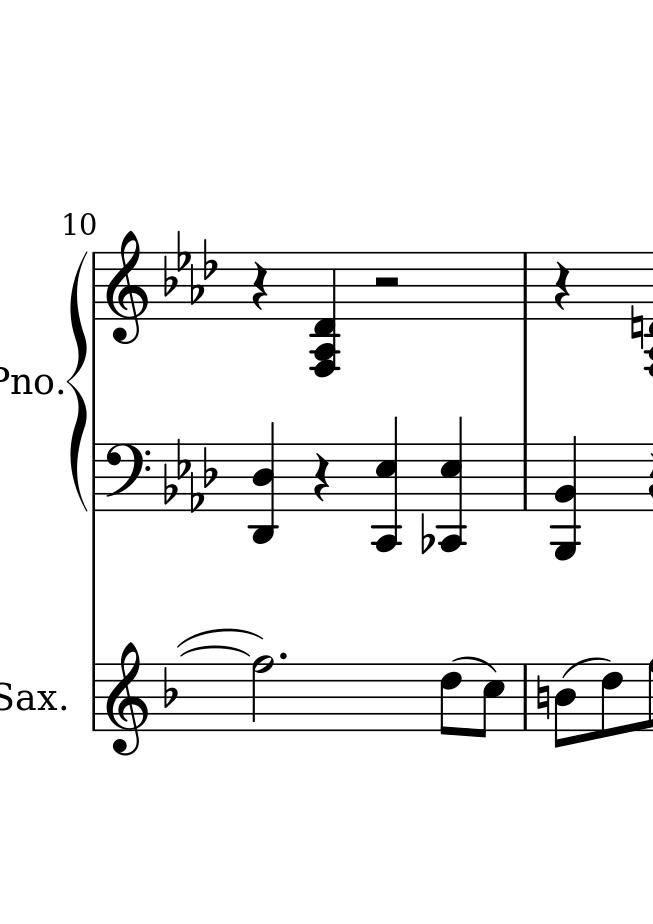0: (78, 208, 96, 238)
1: (62, 209, 77, 239)
2_8: (251, 654, 276, 734)
4_-3_4: (248, 422, 280, 546)
4_-4_5: (372, 416, 403, 554), (435, 415, 466, 553)
4_-5_2: (550, 433, 581, 561)
4_th: (308, 251, 343, 378)
8_4: (551, 662, 576, 752)
8_5: (475, 663, 506, 741)
8_6: (437, 663, 461, 740), (598, 662, 621, 739)
A_F: (161, 229, 219, 304)
Brace: (64, 250, 89, 518)
Fclef: (105, 442, 152, 514)
Flat: (417, 510, 436, 556), (161, 664, 178, 708)
Gclef: (105, 227, 152, 347), (105, 642, 150, 756)
Natural: (628, 304, 646, 352), (534, 674, 550, 722)
Rests2: (372, 272, 403, 294)
Rests4: (249, 260, 271, 313), (312, 452, 334, 505), (552, 258, 573, 311)
Sax: (1, 680, 56, 714)
Single_barline: (516, 665, 536, 734), (517, 252, 534, 322), (87, 252, 103, 321), (518, 440, 532, 513), (87, 660, 100, 734), (90, 441, 102, 512)
Slur: (171, 626, 267, 646), (560, 655, 615, 681), (179, 643, 252, 660), (455, 654, 498, 673)
dot: (274, 649, 291, 666), (276, 649, 288, 662)
